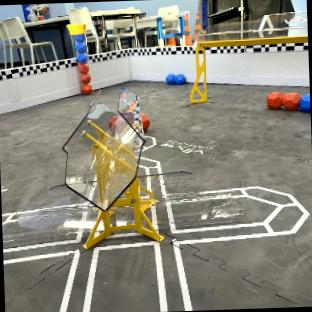Goal: (189, 12, 308, 104)
V5_BLUE: (300, 94, 310, 112), (167, 75, 186, 83)
V5_RED: (267, 92, 300, 110), (141, 114, 149, 129)
